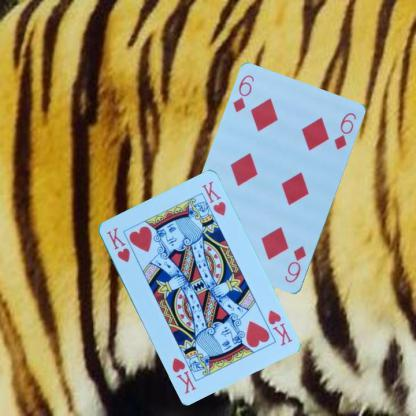6d: (230, 73, 256, 114), (282, 244, 307, 285)
Kh: (264, 307, 294, 347), (104, 225, 131, 263)
